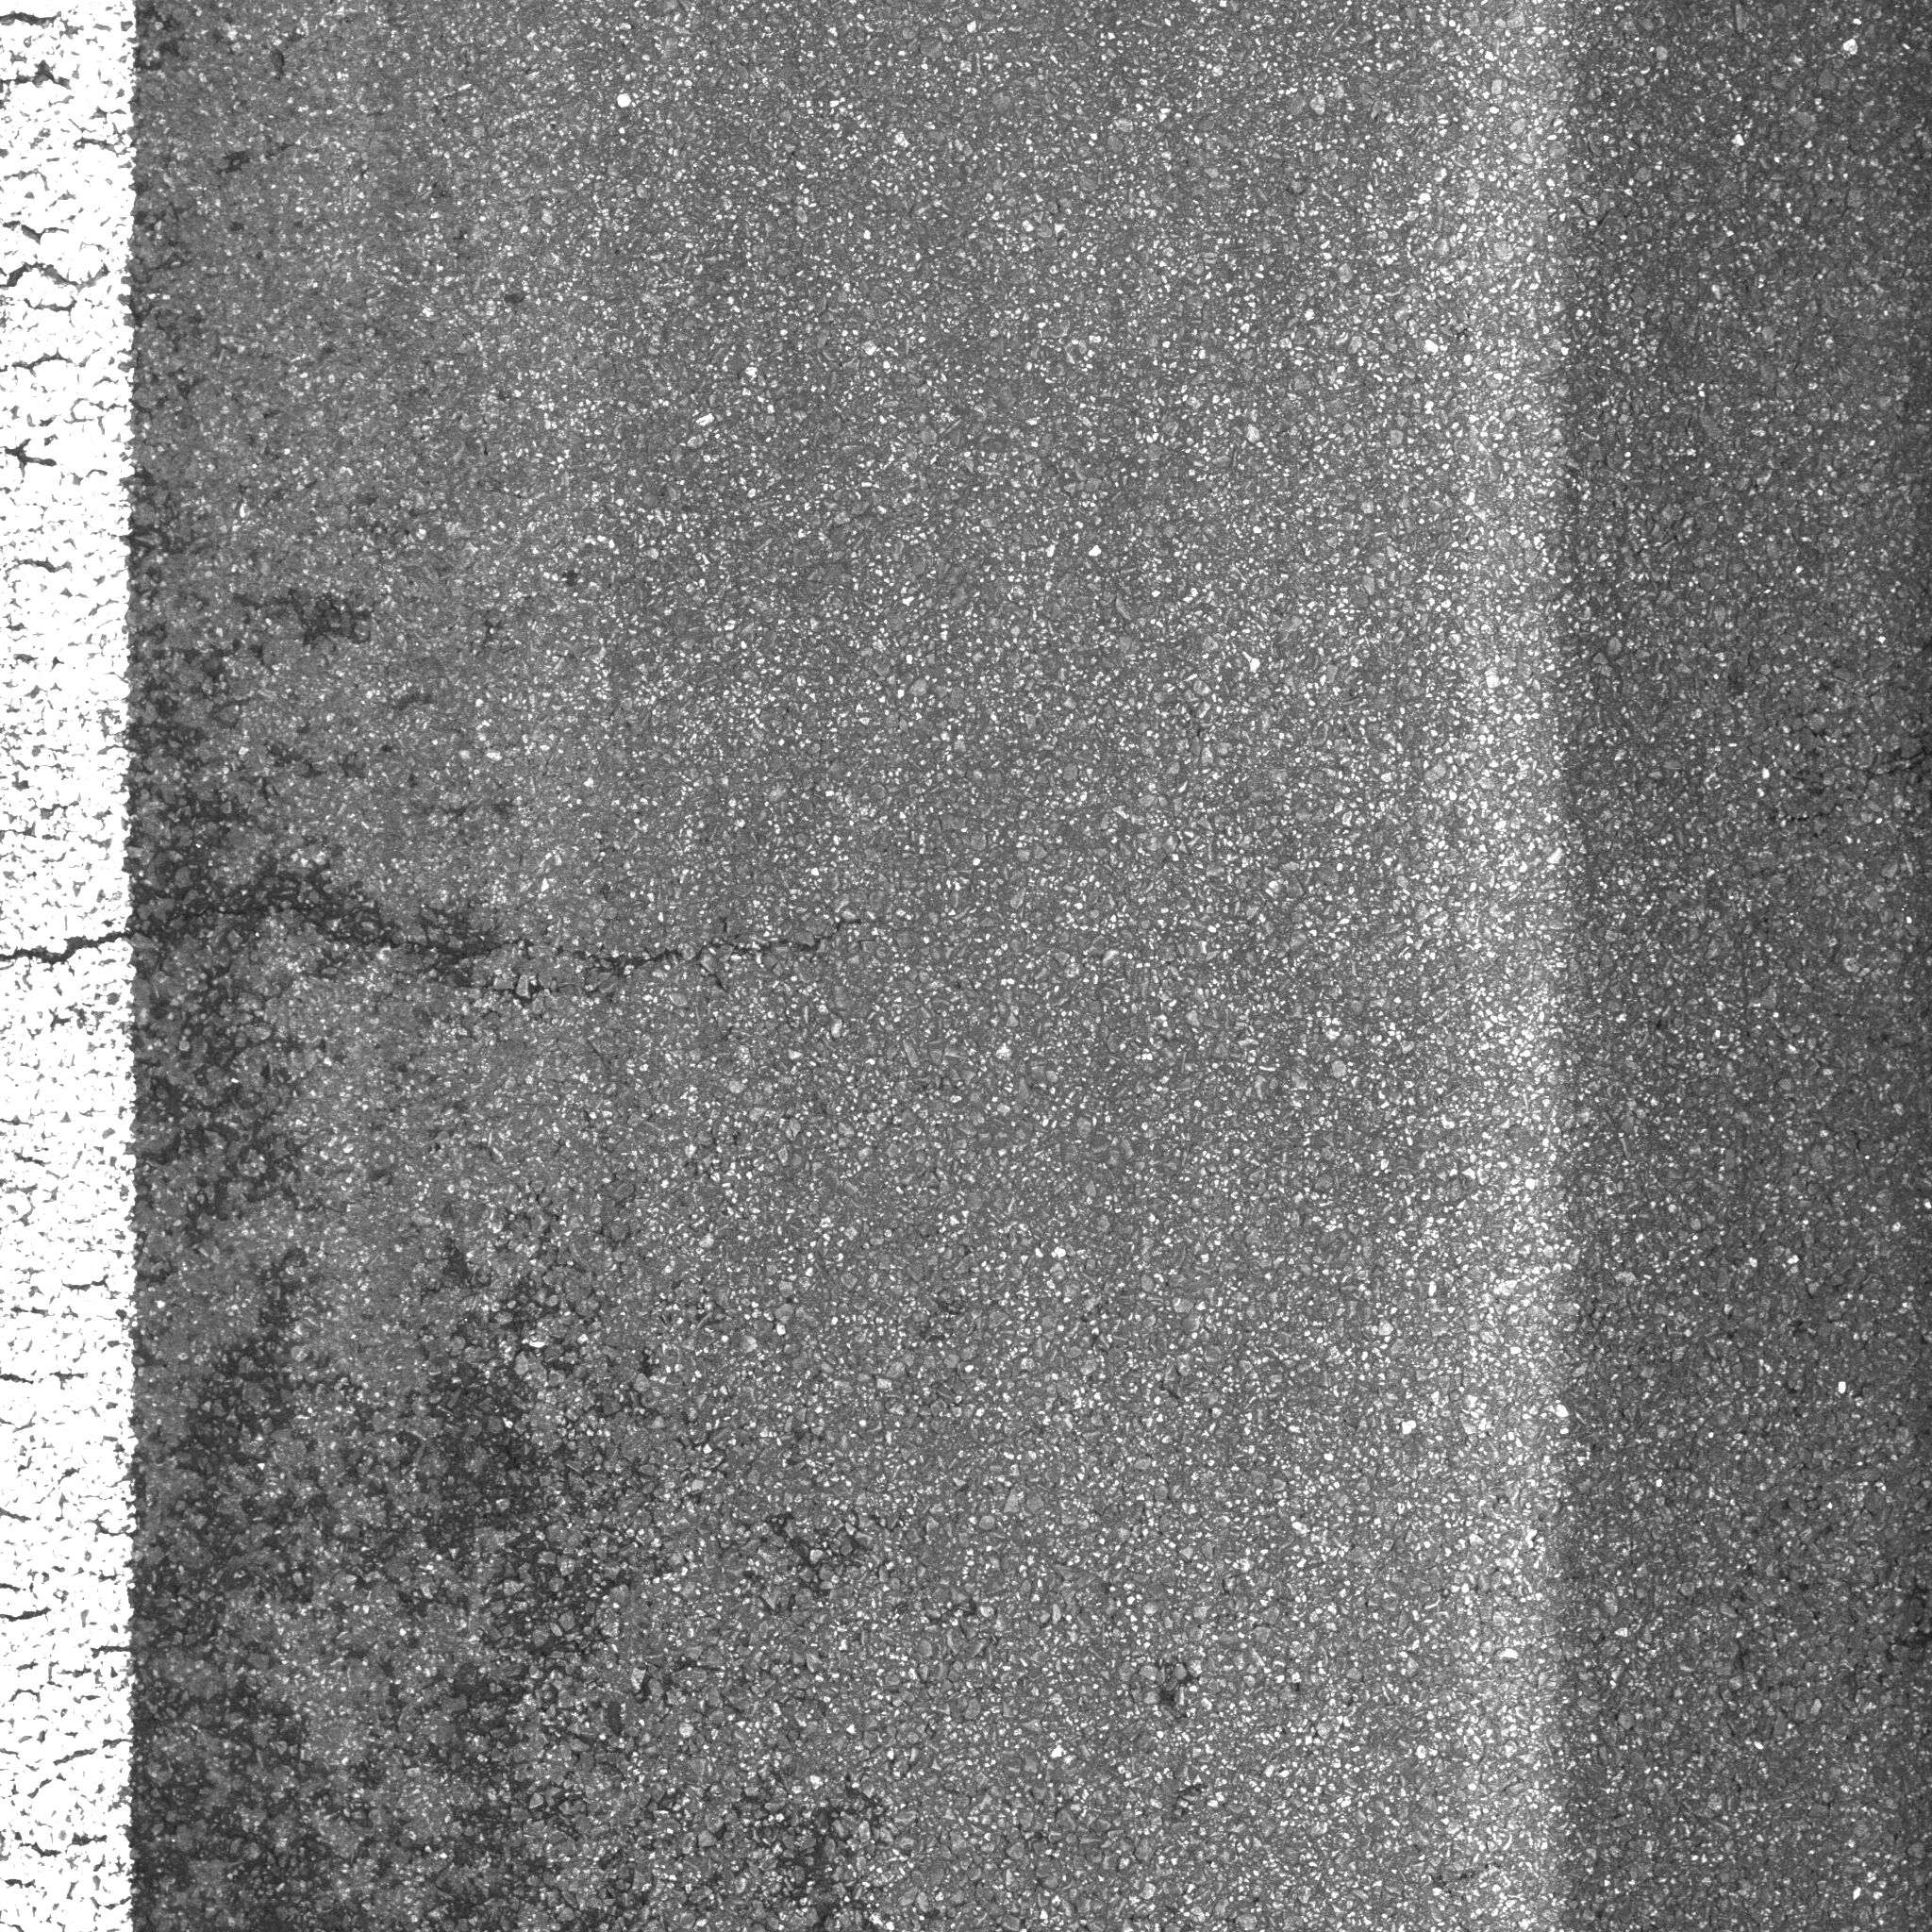transeverse: (9, 879, 893, 1030)
